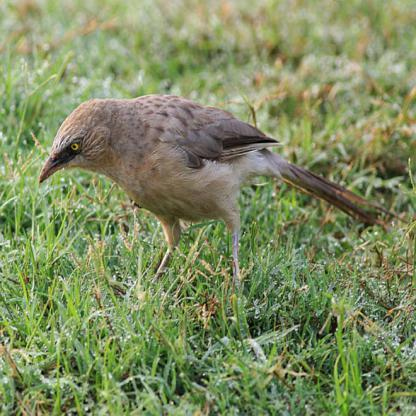Burung: (38, 92, 379, 314)
